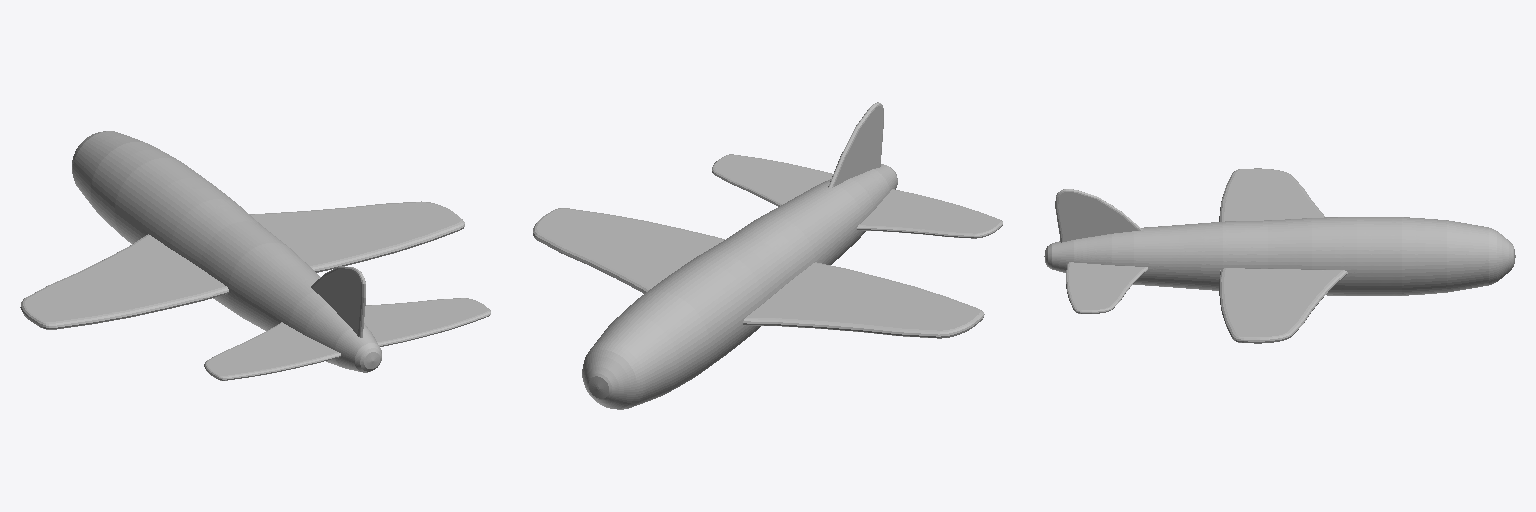
robot.urdf — root:
<robot name="root">
  <link name="link_001">
    <visual>
      <origin xyz="0 0 0" rpy="0 0 0"/>
      <geometry>
        <mesh filename="airplane.obj" scale="1.0000E+00 1.5000E+00 1.0000E+00"/>
      </geometry>
      <material name="">
        <color rgba="7.50E-01 7.50E-01 7.50E-01 1"/>
      </material>
    </visual>
    <collision>
      <origin xyz="0 0 0" rpy="0 0 0"/>
      <geometry>
        <mesh filename="airplane.obj" scale="1.0000E+00 1.5000E+00 1.0000E+00"/>
      </geometry>
    </collision>
    <inertial>
      <mass value="0.16"/> <!-- 质量：0.1kg -->
    </inertial>
  </link>
</robot>

--- What the picture shows (computed from the rendered views, not written in the file) ---
3 views of the same robot in one strip: view 1: azimuth 30°, elevation 25°; view 2: azimuth 150°, elevation 25°; view 3: azimuth 270°, elevation 25° (orthographic).
Model root with 1 links and 0 joints (none), rooted at link_001, posed all joints at 0.
Visible links, largest first — view 1: link_001; view 2: link_001; view 3: link_001.
Link boxes in pixels (x1=…): link_001: x1=20, y1=131, x2=490, y2=380; link_001: x1=533, y1=102, x2=1002, y2=409; link_001: x1=1044, y1=168, x2=1515, y2=343.
Bounding box of the posed robot: 0.1784 × 0.207 × 0.0499 m (x, y, z).
1 mesh visuals loaded from 1 distinct referenced files (1 OBJ).
